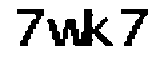7: (118, 4, 156, 52), (14, 6, 45, 48)
k: (88, 6, 115, 52)
w: (47, 16, 87, 48)
